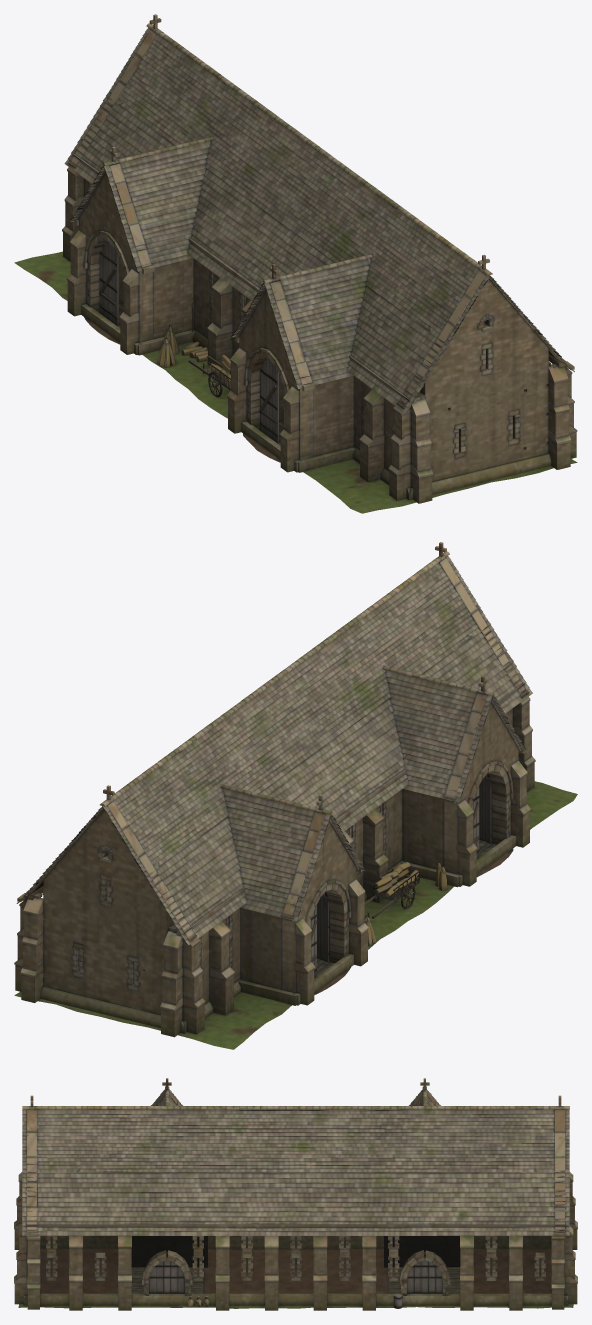
Rendered from tithe_barn.glb.
3 renders of one model, top to bottom at view 1: azimuth 30°, elevation 25°; view 2: azimuth 150°, elevation 25°; view 3: azimuth 270°, elevation 25°, orthographic. The views are drawn at different scales.
Visible parts, largest first — view 1: tithe_barn_LOD0; view 2: tithe_barn_LOD0; view 3: tithe_barn_LOD0.
Boxes of the visible parts, box(x1,y1,x2,y2) form: tithe_barn_LOD0: box(14, 14, 577, 513); tithe_barn_LOD0: box(14, 542, 577, 1049); tithe_barn_LOD0: box(14, 1078, 577, 1310).
Size of what is drawn, in the model's own units: 13.93 by 12.56 by 35.88.
1 material, 1 textured.
